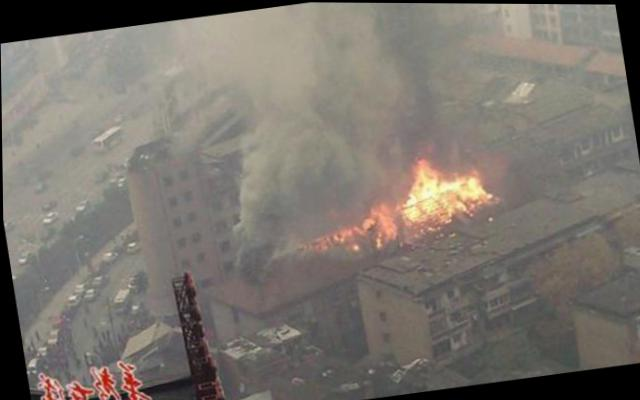fire: (402, 153, 445, 228), (439, 170, 488, 211), (370, 200, 399, 241), (334, 221, 364, 242), (357, 214, 376, 231)
